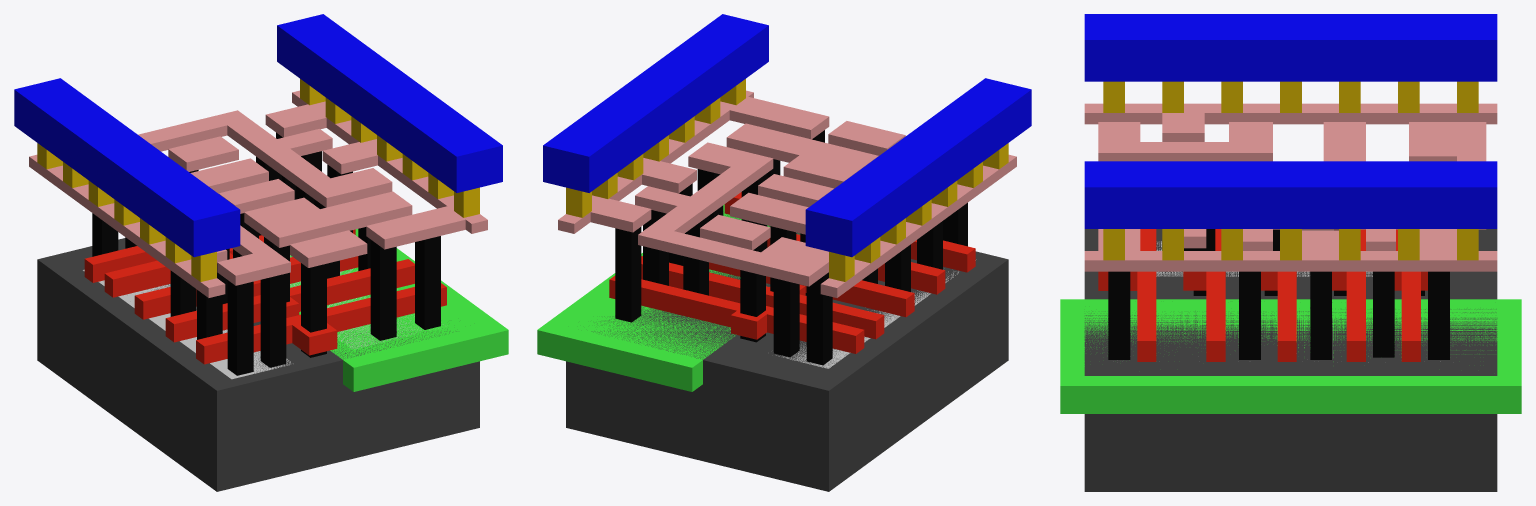
Rendered from sky130_fd_sc_hd__o2111ai_1.obj.
3 renders of one model, left to right at view 1: azimuth 30°, elevation 25°; view 2: azimuth 150°, elevation 25°; view 3: azimuth 270°, elevation 25°, orthographic. The views are drawn at different scales.
Parts seen in each view (by area): view 1: subs, metal1, li, licon, poly, nwell, mcon, diff, tap; view 2: subs, metal1, li, licon, poly, nwell, mcon, diff; view 3: metal1, subs, nwell, li, poly, licon, mcon.
Boxes of the visible parts, x1=… form: subs: x1=37, y1=238, x2=479, y2=491; metal1: x1=14, y1=14, x2=502, y2=257; li: x1=29, y1=90, x2=487, y2=297; licon: x1=92, y1=132, x2=440, y2=375; poly: x1=84, y1=229, x2=446, y2=364; nwell: x1=290, y1=229, x2=508, y2=391; mcon: x1=37, y1=79, x2=479, y2=281; diff: x1=83, y1=269, x2=293, y2=379; tap: x1=290, y1=255, x2=443, y2=349; subs: x1=566, y1=214, x2=1008, y2=491; metal1: x1=543, y1=14, x2=1031, y2=257; li: x1=558, y1=90, x2=1016, y2=297; licon: x1=615, y1=130, x2=967, y2=365; poly: x1=609, y1=192, x2=975, y2=353; nwell: x1=537, y1=204, x2=798, y2=391; mcon: x1=566, y1=79, x2=1008, y2=281; diff: x1=776, y1=259, x2=976, y2=368; metal1: x1=1084, y1=14, x2=1497, y2=228; subs: x1=1084, y1=229, x2=1497, y2=491; nwell: x1=1060, y1=299, x2=1521, y2=413; li: x1=1084, y1=103, x2=1497, y2=271; poly: x1=1098, y1=229, x2=1427, y2=361; licon: x1=1108, y1=229, x2=1449, y2=359; mcon: x1=1103, y1=81, x2=1478, y2=260.
Size of the model in its own units: 3.2 by 2.74 by 3.6.
